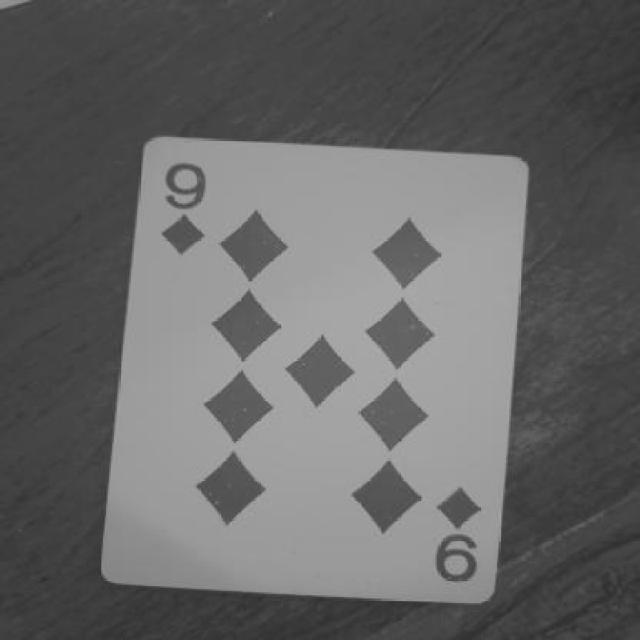9D: (423, 458, 505, 587), (138, 150, 230, 256)
